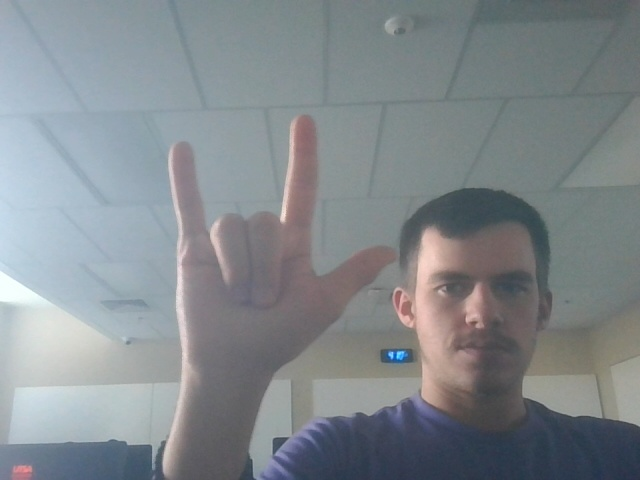iloveyou: (151, 115, 402, 377)
